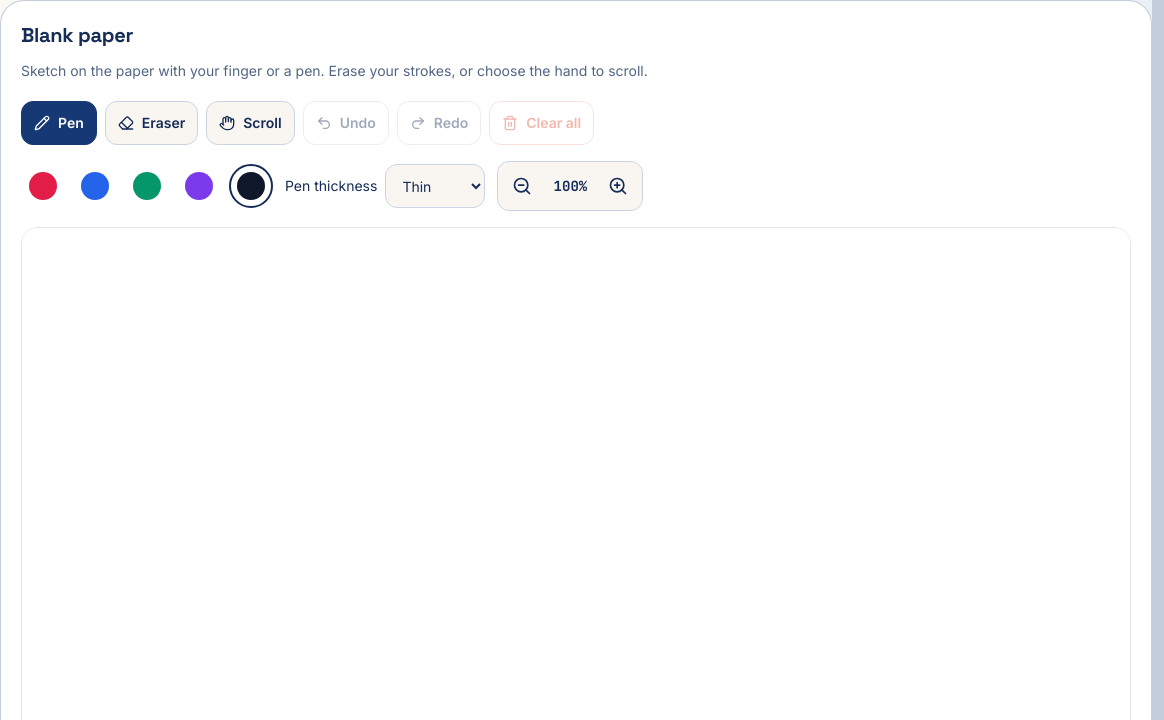
sketch paper interaction › zooms in and out while keeping the paper scrollable in hand mode
Later steps or results of the test are not shown.
expect the button "Pen" is enabled: met, box top-left (21, 101), bottom-right (97, 145)
expect the text named "Zoom level" reads "100%": met, box top-left (554, 177), bottom-right (587, 195)
What coordinates should you click on to do the following:
click the button named "Zoom in"
I would click on:
 (618, 186)
Its box is top-left (598, 166), bottom-right (638, 206).
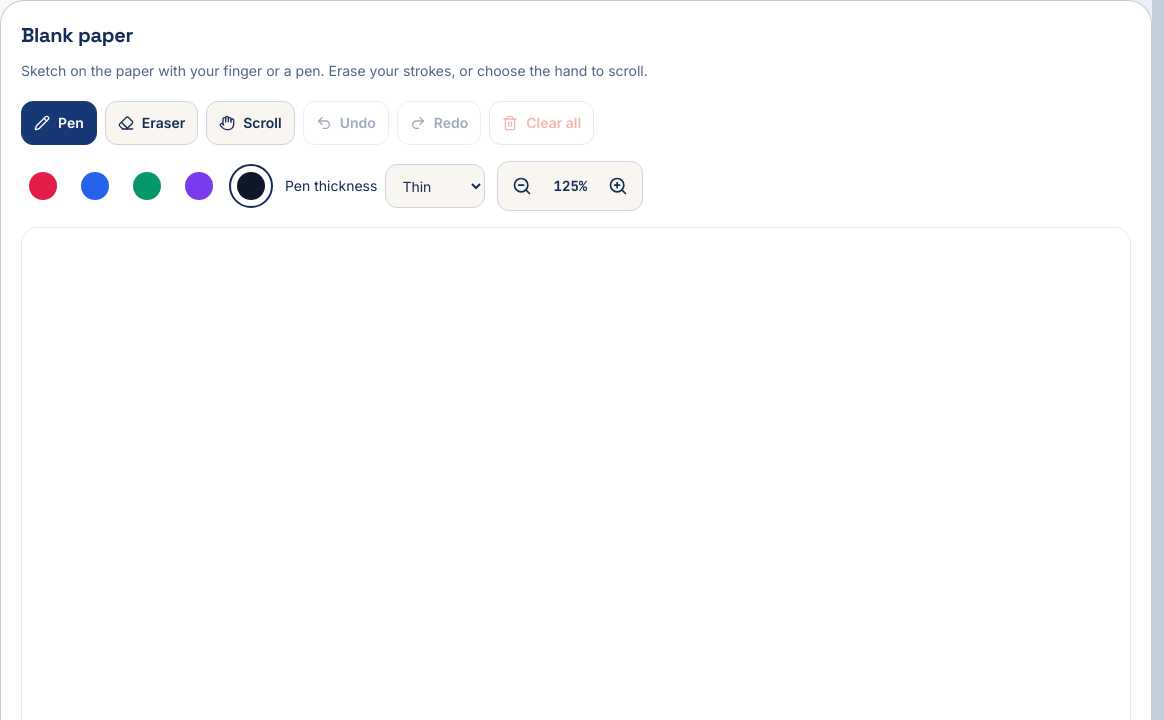
expect the text named "Zoom level" reads "125%": met, box top-left (554, 177), bottom-right (587, 195)
What coordinates should you click on to do the following:
click the button named "Zoom out"
I would click on:
 (522, 186)
Its box is top-left (502, 166), bottom-right (542, 206).
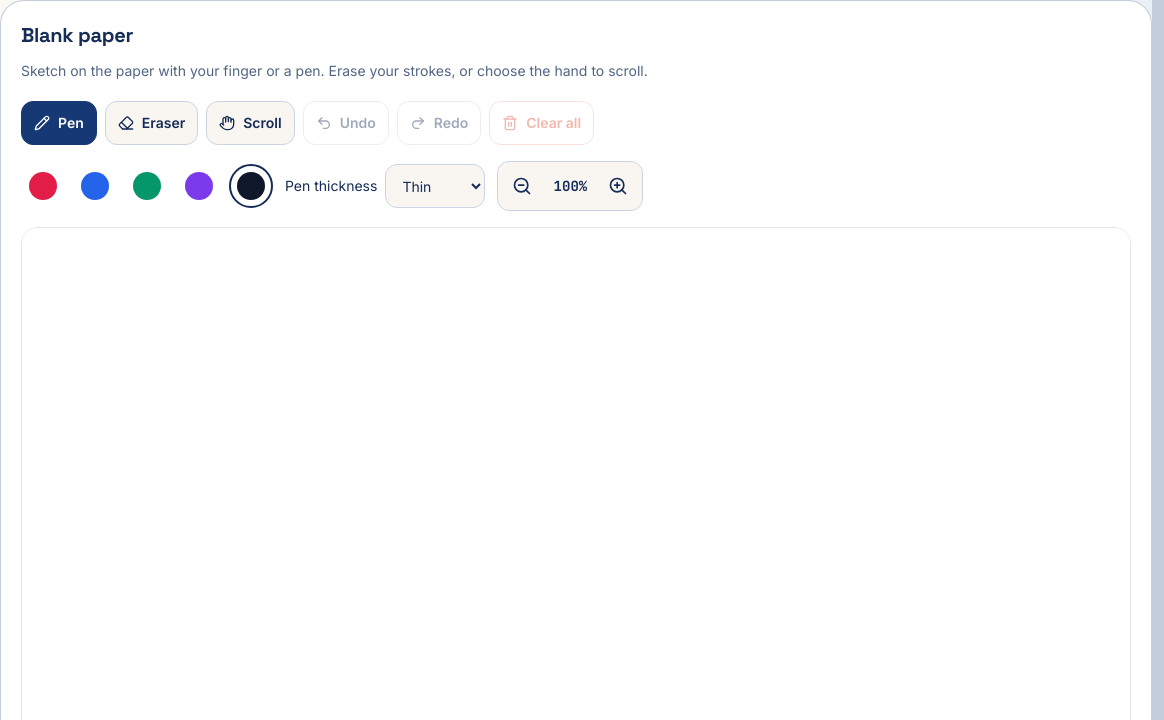
What coordinates should you click on to do the following:
click the button named "Zoom out"
I would click on:
 (522, 186)
Its box is top-left (502, 166), bottom-right (542, 206).
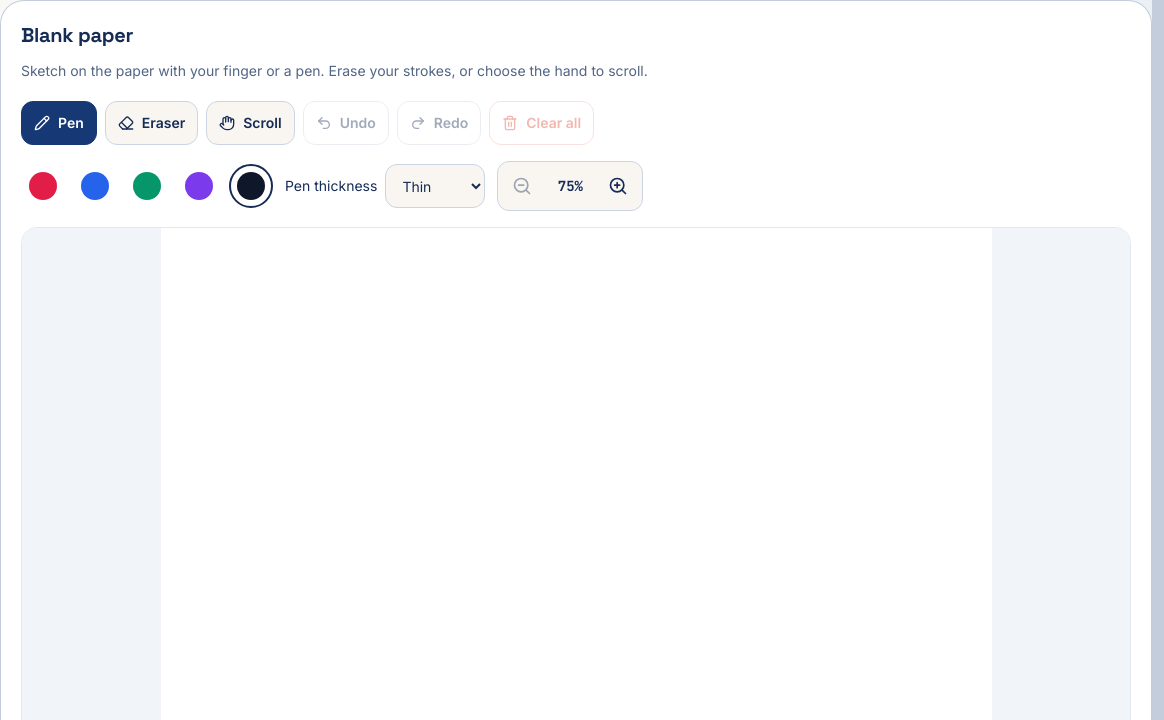
expect the button named "Zoom out" is disabled: met, box top-left (502, 166), bottom-right (542, 206)
